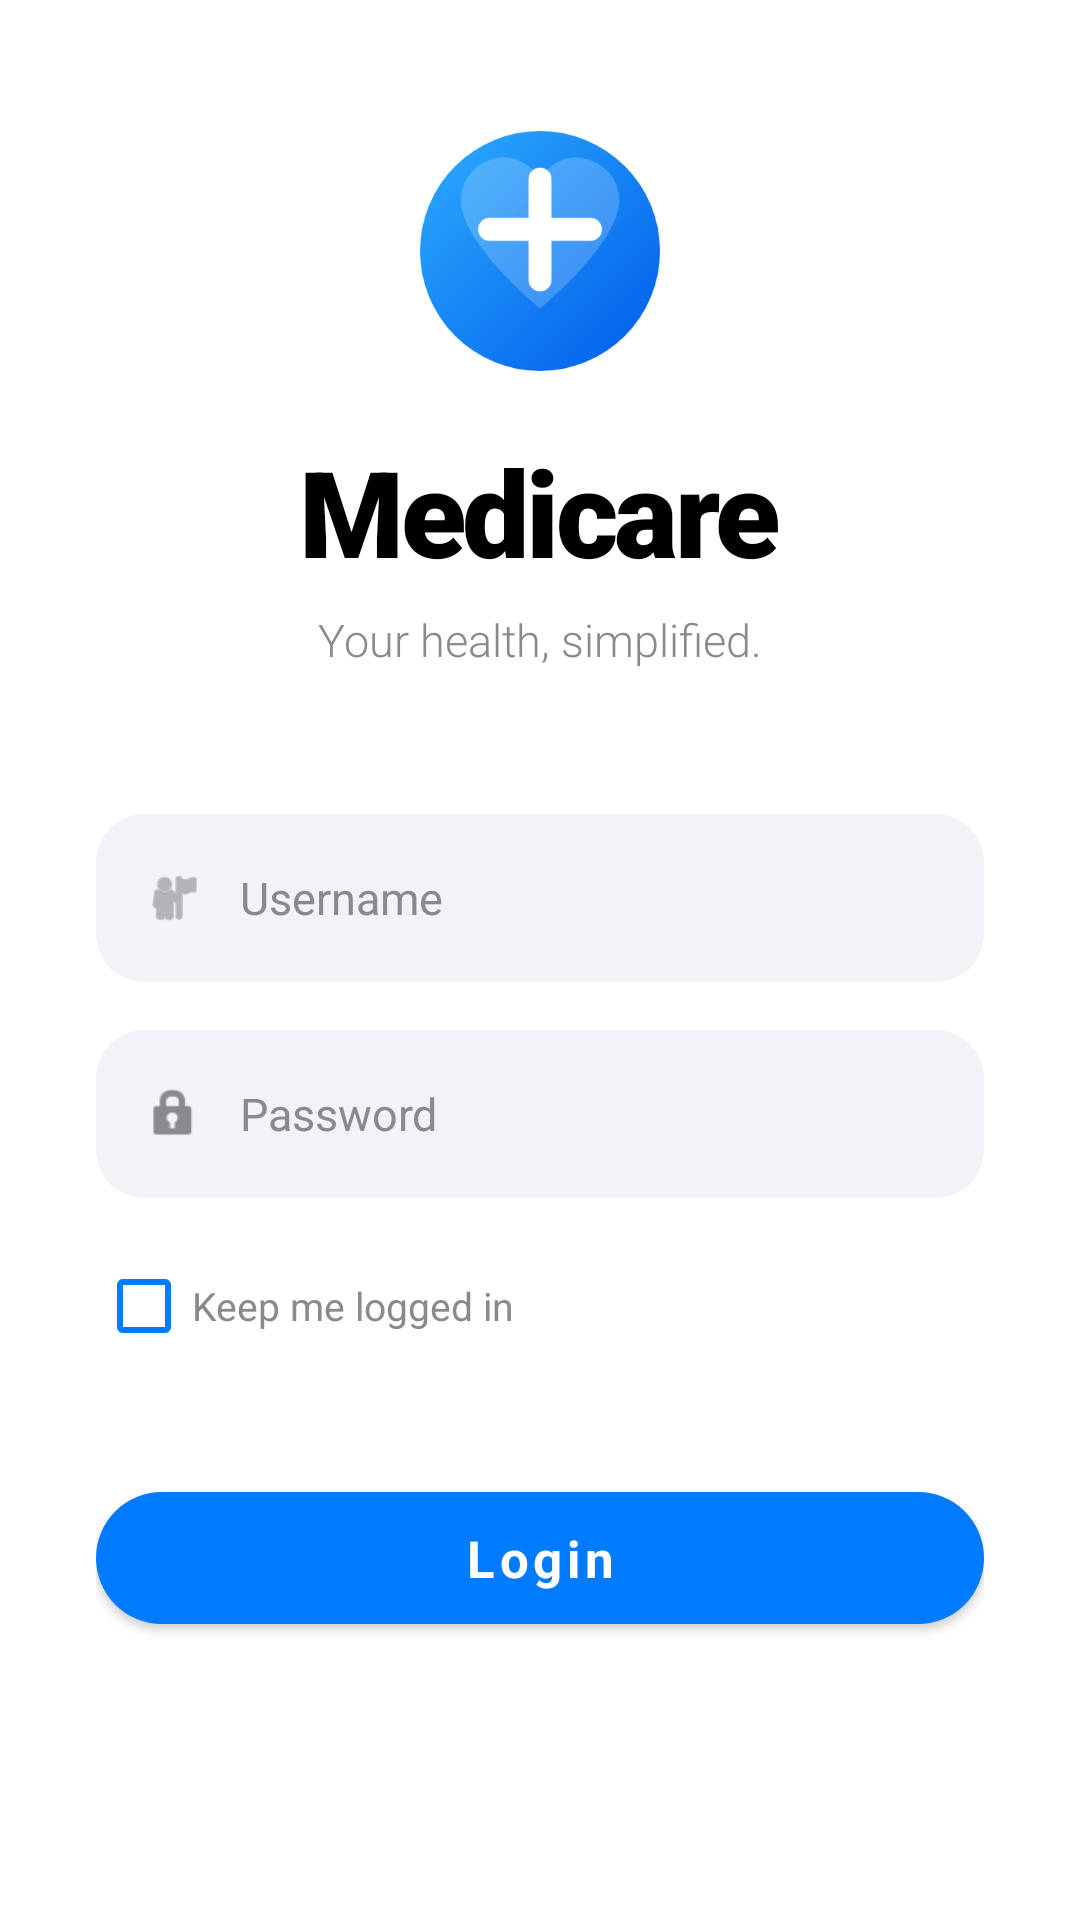

Named icons in this screenshot (1080x1920) and their bounding boxes, (x1, y1, x2, y2):
lock idle: (153, 1089, 192, 1135)
